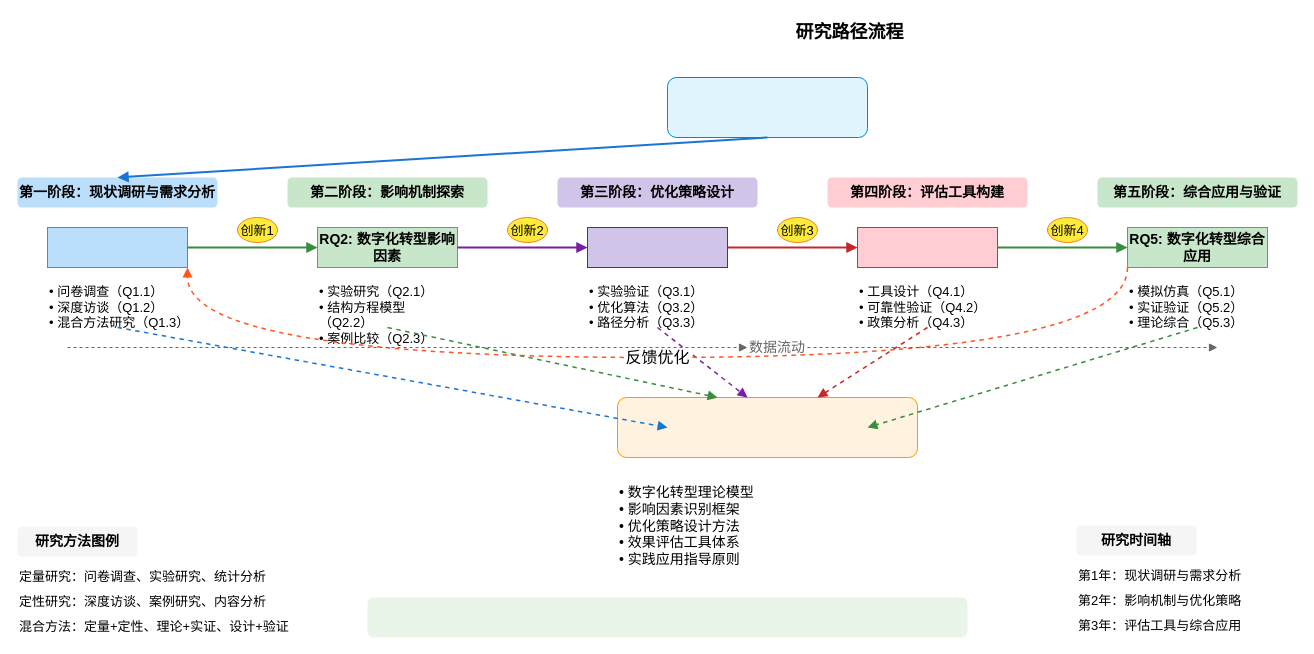
The diagram is 1314 pixels wide and 654 high, and some of its shapes have lost their labels. Here are the shapes that lost their labels. From the top down, the box of each, then its label:
(666, 76, 868, 138): 研究问题提出 数字化转型现状与挑战
(46, 226, 188, 268): RQ1: 数字化转型现状
(586, 226, 728, 268): RQ3: 数字化转型优化策略
(856, 226, 998, 268): RQ4: 数字化转型评估工具
(616, 396, 918, 458): 研究产出与贡献
(367, 597, 967, 637): 研究逻辑：现状调研 → 机制探索 → 策略设计 → 工具构建 → 综合应用 → 反馈优化
